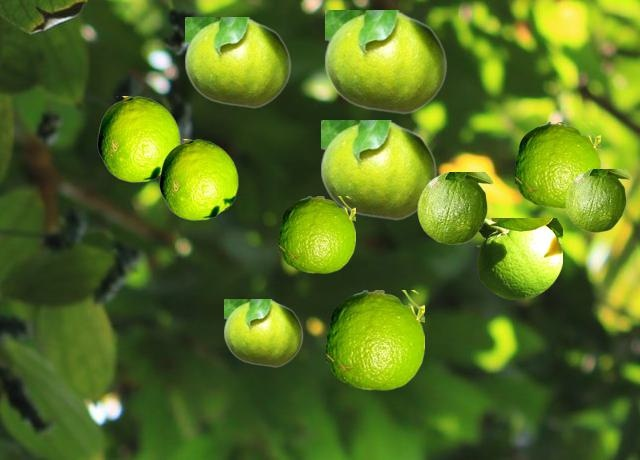dalandan: (325, 10, 446, 113), (321, 120, 436, 219), (326, 290, 423, 389), (185, 17, 290, 107), (515, 122, 599, 207), (97, 96, 179, 181), (477, 218, 561, 298), (159, 139, 237, 219), (279, 196, 354, 272), (417, 172, 492, 243), (224, 299, 302, 366), (565, 169, 630, 231)
